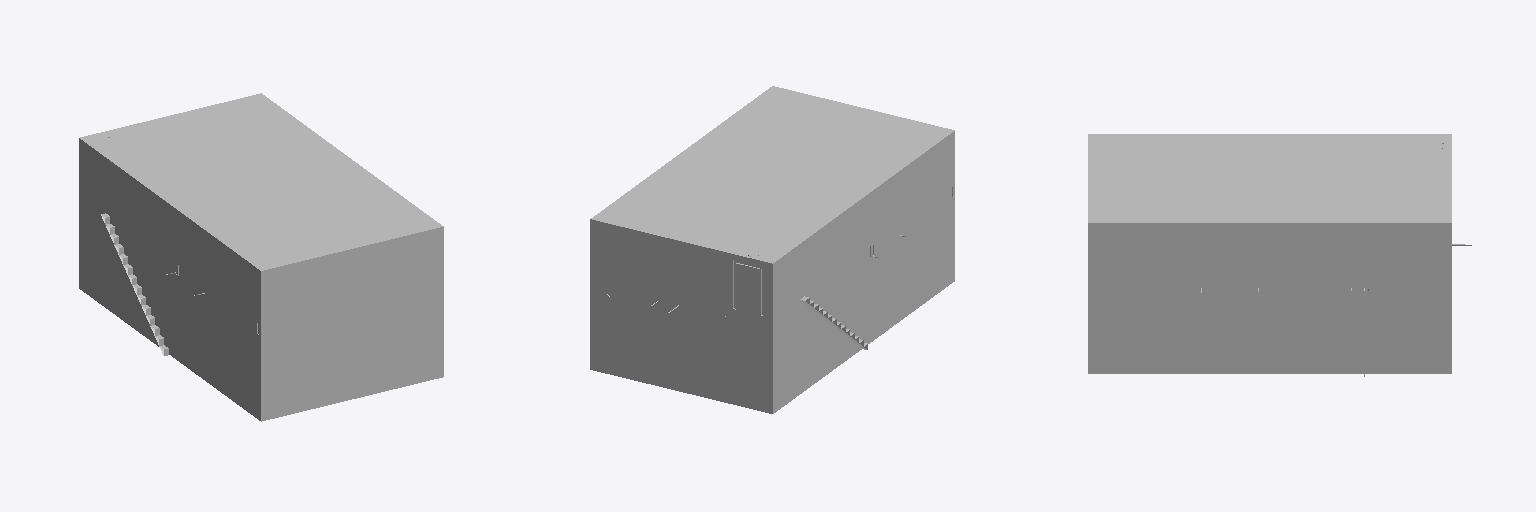
The model's file is basement.obj.
3 renders of one model, left to right at view 1: azimuth 30°, elevation 25°; view 2: azimuth 150°, elevation 25°; view 3: azimuth 270°, elevation 25°, orthographic.
Parts seen in each view (by area): view 1: body, stairs; view 2: body, stairs; view 3: body.
Boxes of the visible parts, x1,y1,x2,y2 form: body: [79, 93, 443, 421]; stairs: [101, 213, 168, 355]; body: [590, 86, 954, 413]; stairs: [800, 296, 867, 349]; body: [1088, 134, 1451, 373].
Size of the model in its own units: 22.3 by 16.24 by 36.48.